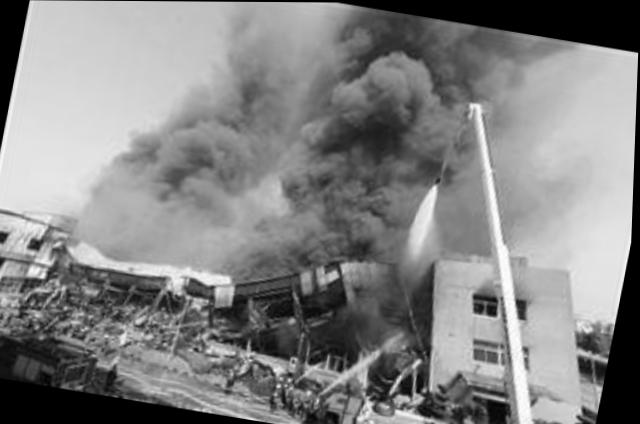smoke: (92, 72, 273, 254), (205, 1, 426, 122), (255, 102, 426, 255), (430, 20, 545, 128), (415, 134, 483, 237)
